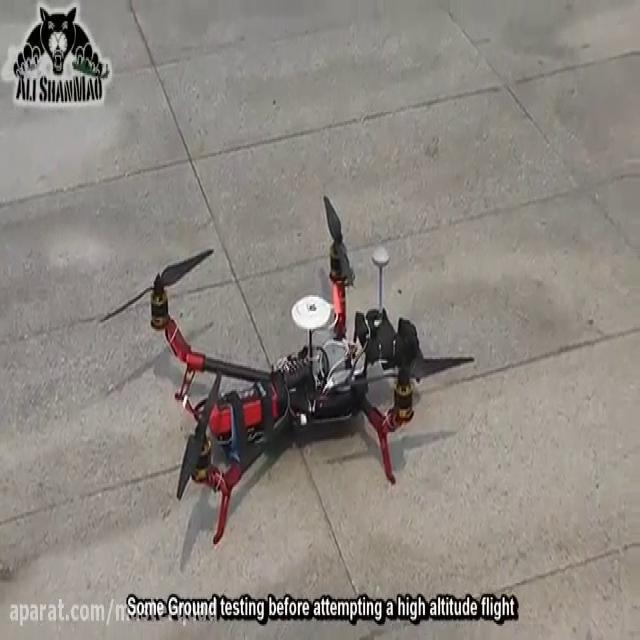drone: (95, 190, 478, 551)
